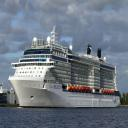cruises: (8, 27, 123, 112)
